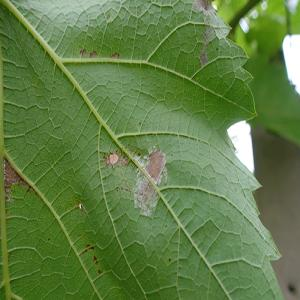Folha: (0, 0, 284, 298)
Fungo: (132, 145, 167, 216), (3, 157, 38, 208), (192, 0, 216, 68), (79, 48, 120, 58), (102, 150, 120, 168), (192, 0, 212, 14), (78, 243, 94, 255), (108, 151, 119, 165), (120, 154, 127, 168), (79, 202, 87, 214), (92, 254, 99, 267), (79, 47, 87, 58), (78, 247, 88, 255), (103, 152, 109, 165), (89, 50, 98, 58), (109, 52, 120, 58), (97, 268, 107, 274), (97, 268, 102, 274), (85, 242, 90, 248), (89, 52, 93, 58), (90, 245, 94, 250)
